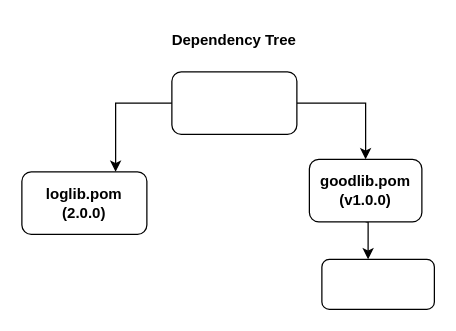
This 456x331 diagram has some shape labels left out. The centre of each missing label's shape, as x and y in pixels:
helloworld.pom: pixel 234 102
loglib.pom (1.0.0): pixel 377 283
